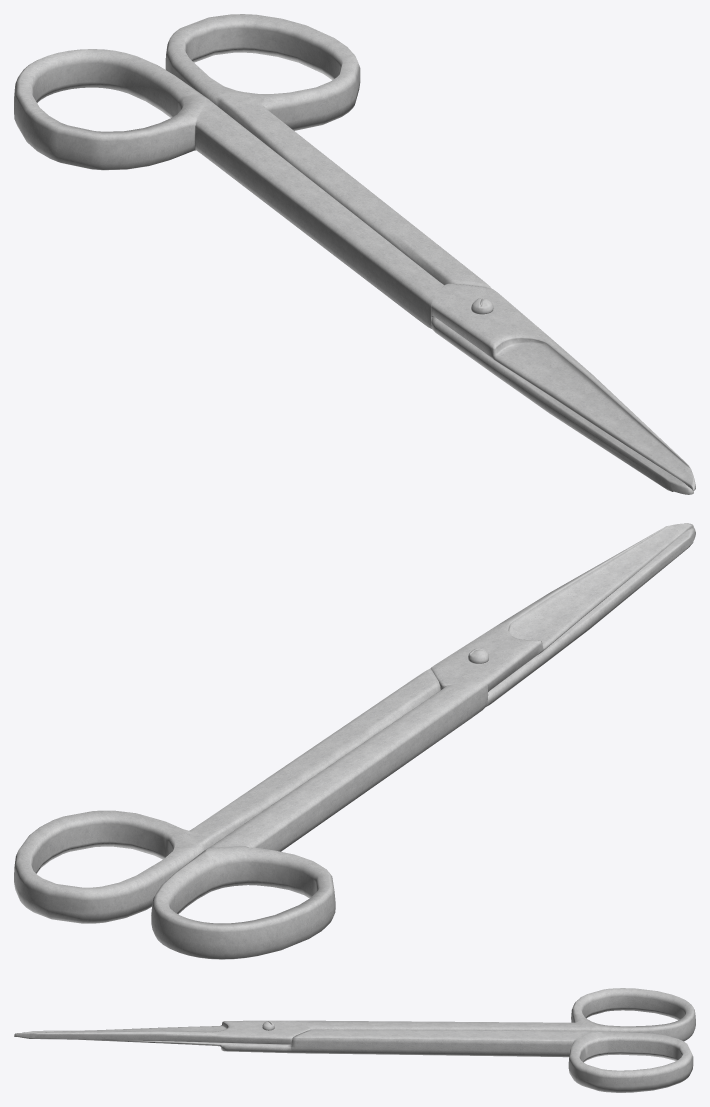
Rendered from Keo.fbx.
The picture shows the model from 3 angles, top to bottom: view 1: azimuth 30°, elevation 25°; view 2: azimuth 150°, elevation 25°; view 3: azimuth 270°, elevation 25°; orthographic projection. The views are drawn at different scales.
Visible parts, largest first — view 1: Keo_R, Keo_L; view 2: Keo_R, Keo_L; view 3: Keo_L, Keo_R.
Part boxes in pixels (<box>): Keo_R: <box>14,49,695,490</box>; Keo_L: <box>165,14,693,494</box>; Keo_R: <box>151,523,693,959</box>; Keo_L: <box>14,527,695,923</box>; Keo_L: <box>14,1030,693,1092</box>; Keo_R: <box>14,988,695,1044</box>.
Bounding box in the file's own units: 5.55 × 0.8281 × 18.24.
1 material, 1 textured.
